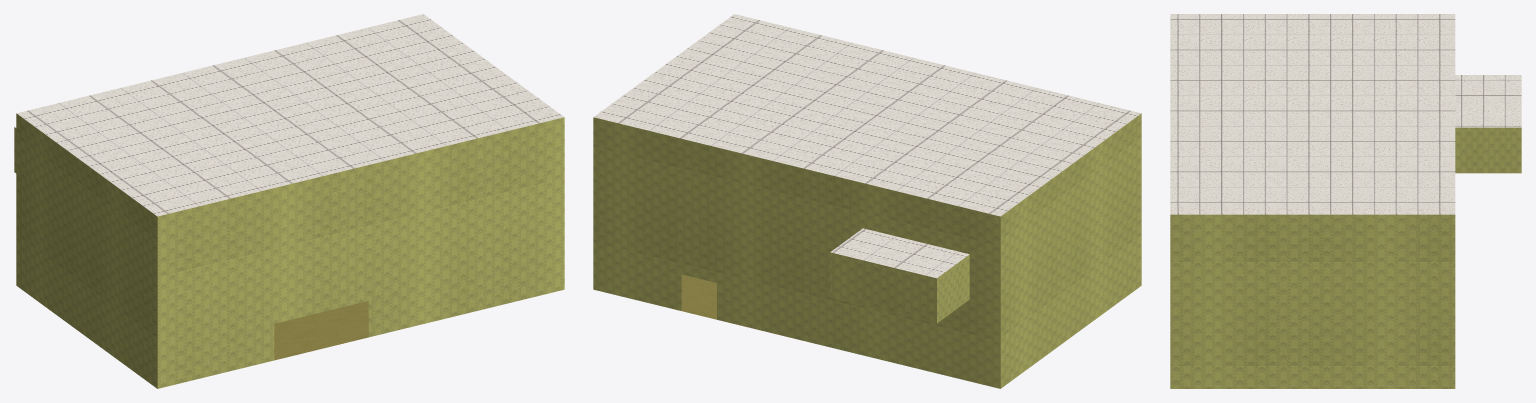
The model's file is Backrooms3.fbx.
The picture shows the model from 3 angles, left to right: view 1: azimuth 30°, elevation 25°; view 2: azimuth 150°, elevation 25°; view 3: azimuth 270°, elevation 25°; orthographic projection.
Parts seen in each view (by area): view 1: Bacrooms3_ParedE1, Bacrooms3_Techo, Bacrooms3_ParedE2, Bacrooms3_Piso; view 2: Bacrooms3_ParedE3, Bacrooms3_Techo, Bacrooms3_ParedE2, Bacrooms3_Piso; view 3: Bacrooms3_Techo, Bacrooms3_ParedE4, Bacrooms3_ParedE3.
Part boxes in pixels (<box>): Bacrooms3_ParedE1: <box>157,117,564,388</box>; Bacrooms3_Techo: <box>15,14,564,216</box>; Bacrooms3_ParedE2: <box>16,113,157,388</box>; Bacrooms3_Piso: <box>274,301,368,360</box>; Bacrooms3_ParedE3: <box>593,117,1000,388</box>; Bacrooms3_Techo: <box>594,14,1140,278</box>; Bacrooms3_ParedE2: <box>1000,113,1141,388</box>; Bacrooms3_Piso: <box>681,274,716,319</box>; Bacrooms3_Techo: <box>1170,14,1521,214</box>; Bacrooms3_ParedE4: <box>1170,214,1455,388</box>; Bacrooms3_ParedE3: <box>1455,127,1521,173</box>.
Size of the model in its own units: 5000 by 2023 by 3700.
3 materials, 3 textured.
